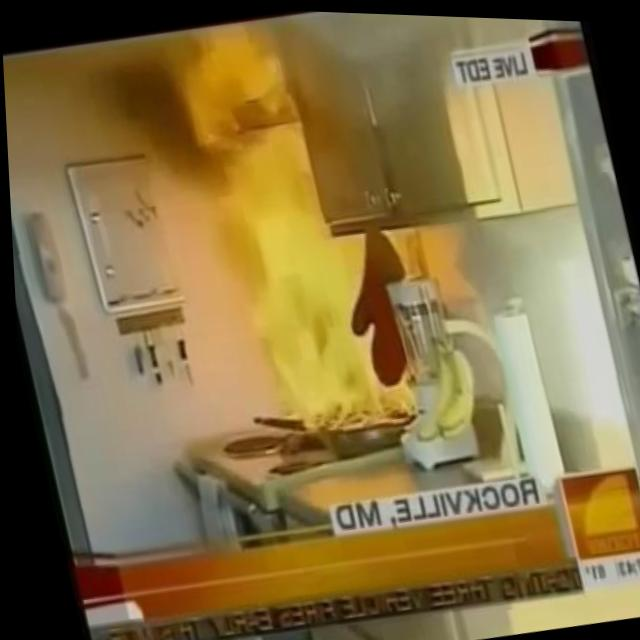fire: (169, 5, 432, 451)
